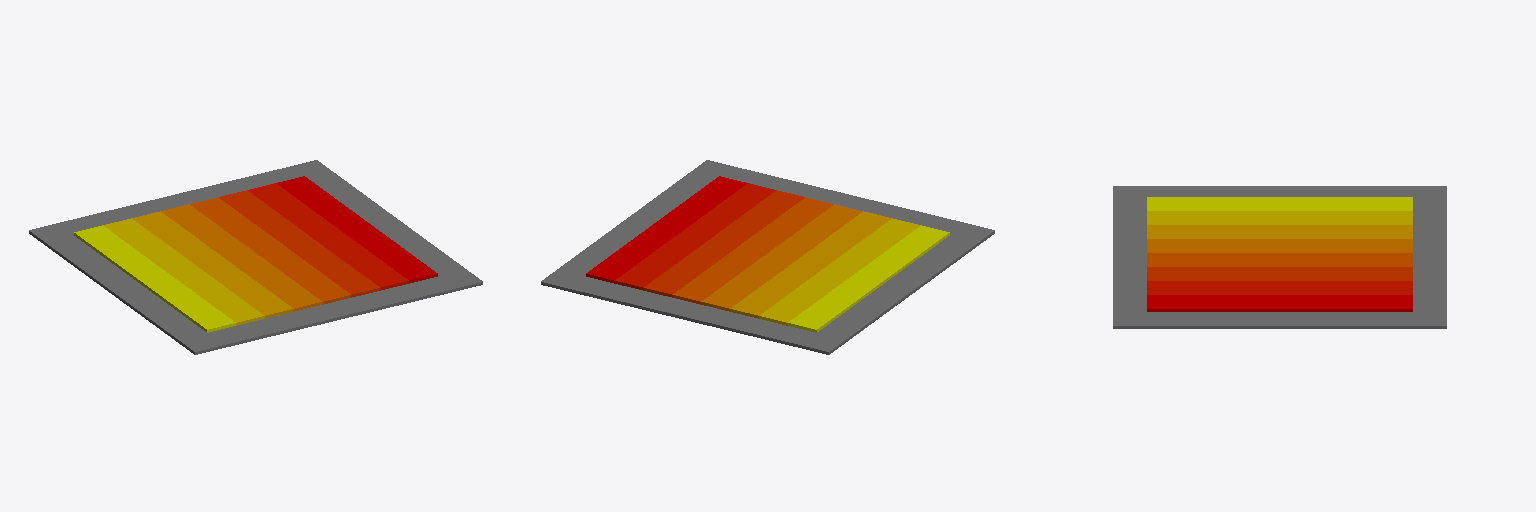
The model's file is strips.obj.
The picture shows the model from 3 angles: view 1: azimuth 30°, elevation 25°; view 2: azimuth 150°, elevation 25°; view 3: azimuth 270°, elevation 25°; orthographic projection.
Parts seen in each view (by area): view 1: Box, Box001, Box006, Box003, Box002, Box007, Box004, Box008, Box005; view 2: Box, Box001, Box006, Box003, Box002, Box007, Box004, Box008, Box005; view 3: Box, Box008, Box007, Box006, Box005, Box004, Box003, Box002, Box001.
Boxes of the visible parts, x1=… form: Box: x1=29, y1=160, x2=482, y2=354; Box001: x1=74, y1=225, x2=235, y2=332; Box006: x1=219, y1=190, x2=379, y2=297; Box003: x1=132, y1=211, x2=293, y2=318; Box002: x1=103, y1=218, x2=264, y2=325; Box007: x1=248, y1=183, x2=408, y2=290; Box004: x1=161, y1=204, x2=322, y2=311; Box008: x1=276, y1=176, x2=437, y2=283; Box005: x1=190, y1=197, x2=350, y2=304; Box: x1=541, y1=160, x2=994, y2=354; Box001: x1=788, y1=225, x2=949, y2=332; Box006: x1=644, y1=190, x2=804, y2=297; Box003: x1=730, y1=211, x2=891, y2=318; Box002: x1=759, y1=218, x2=920, y2=325; Box007: x1=615, y1=183, x2=775, y2=290; Box004: x1=701, y1=204, x2=862, y2=311; Box008: x1=586, y1=176, x2=747, y2=283; Box005: x1=673, y1=197, x2=833, y2=304; Box: x1=1113, y1=186, x2=1446, y2=328; Box008: x1=1147, y1=295, x2=1412, y2=311; Box007: x1=1147, y1=281, x2=1412, y2=294; Box006: x1=1147, y1=267, x2=1412, y2=280; Box005: x1=1147, y1=253, x2=1412, y2=266; Box004: x1=1147, y1=239, x2=1412, y2=252; Box003: x1=1147, y1=225, x2=1412, y2=238; Box002: x1=1147, y1=211, x2=1412, y2=224; Box001: x1=1147, y1=197, x2=1412, y2=210.
Size of the model in its own units: 1 by 0.02 by 1.